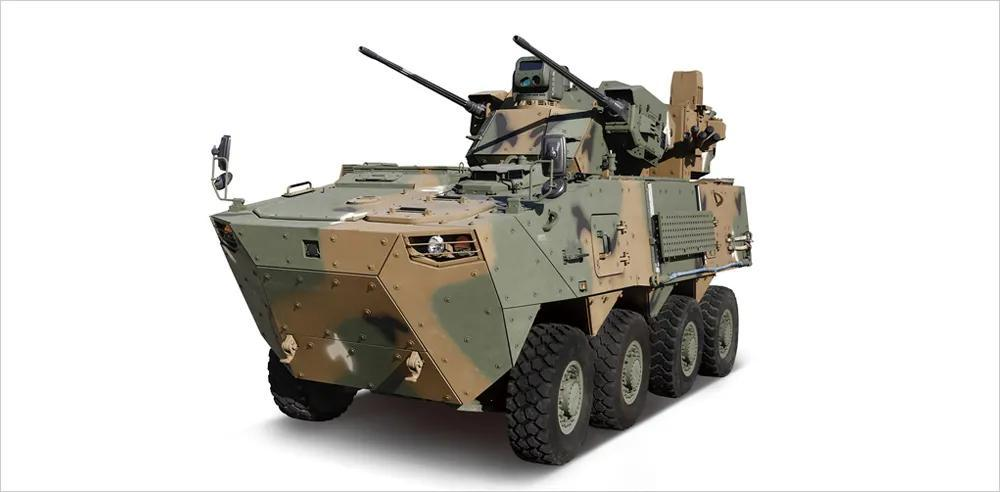MIL_IFV: (207, 32, 758, 466)
